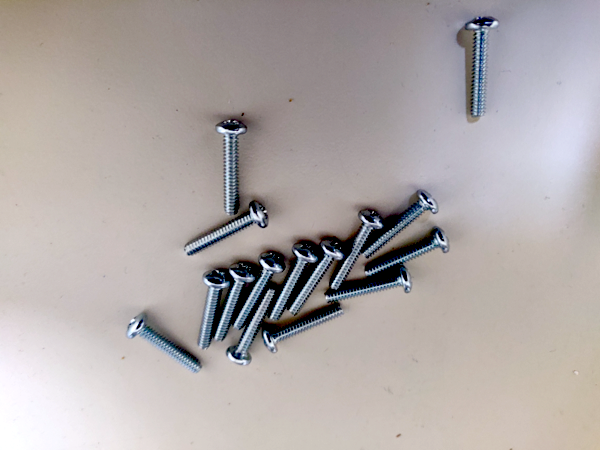longscrew: (363, 189, 440, 261), (126, 319, 204, 376), (362, 230, 449, 281), (184, 205, 268, 257), (267, 304, 348, 356), (233, 252, 285, 331), (330, 215, 384, 290), (291, 240, 345, 314), (229, 289, 277, 372), (269, 240, 317, 323), (324, 269, 416, 309), (212, 115, 246, 219), (467, 16, 499, 118), (216, 264, 254, 344), (191, 270, 227, 351)
